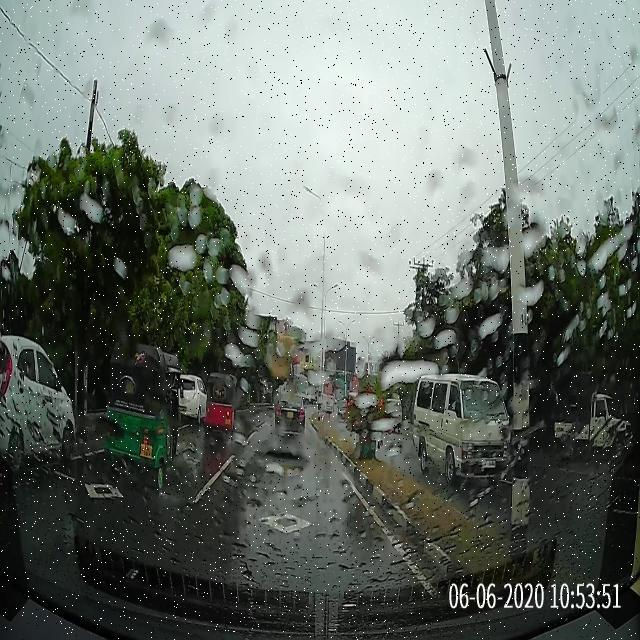diamond: (164, 509, 406, 549)
